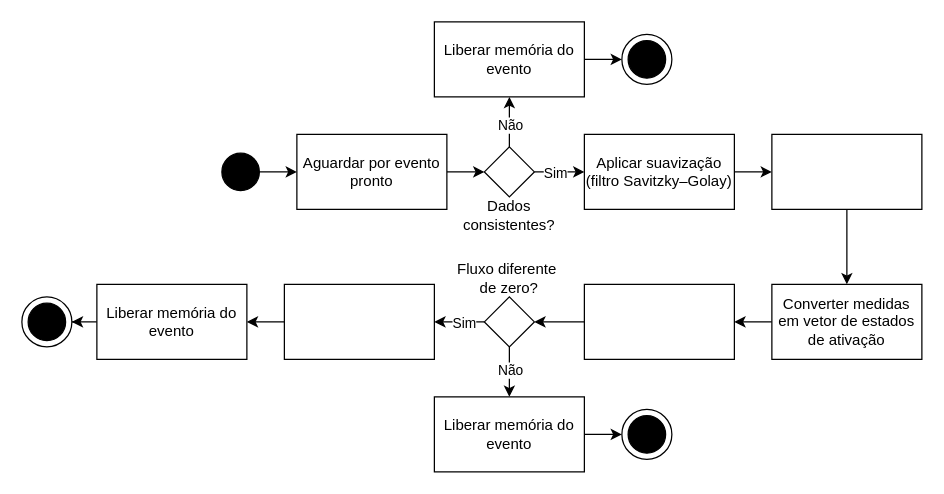
Some shapes in this 944 by 494 pixel diagram are drawn without their labels. The box of each missing label's shape, as (x1, y1, x2, y2) in pixels:
Calcular fluxo de pessoas: (583, 283, 734, 359)
Calcular média: (771, 133, 922, 209)
Enviar pacote com fluxo de pessoas: (283, 283, 434, 359)
